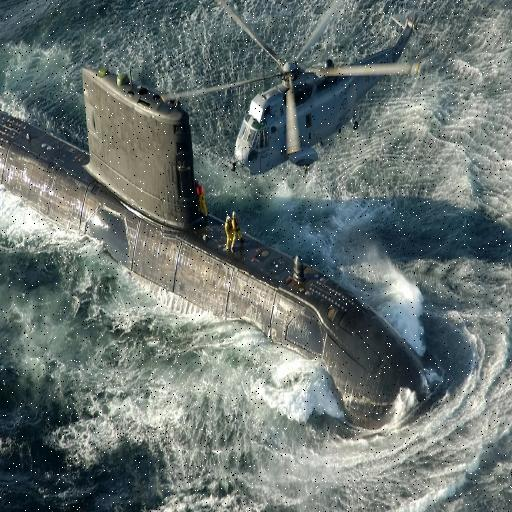submarine: (1, 54, 436, 430)
